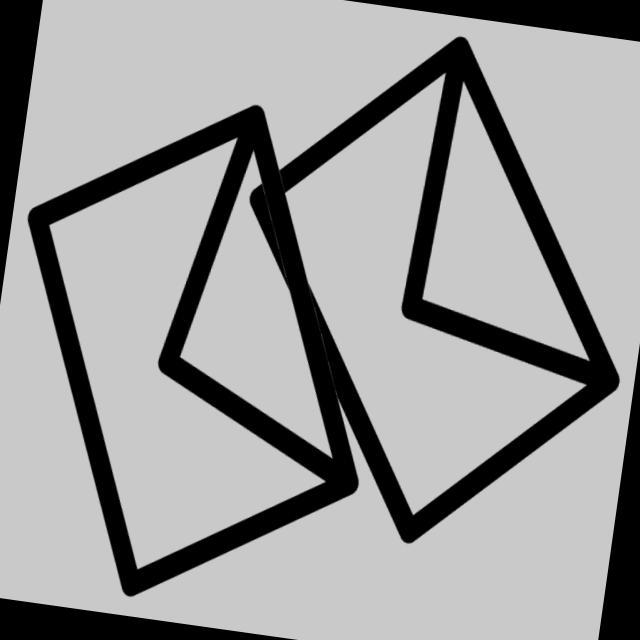letter: (190, 2, 640, 594), (1, 56, 430, 640)
